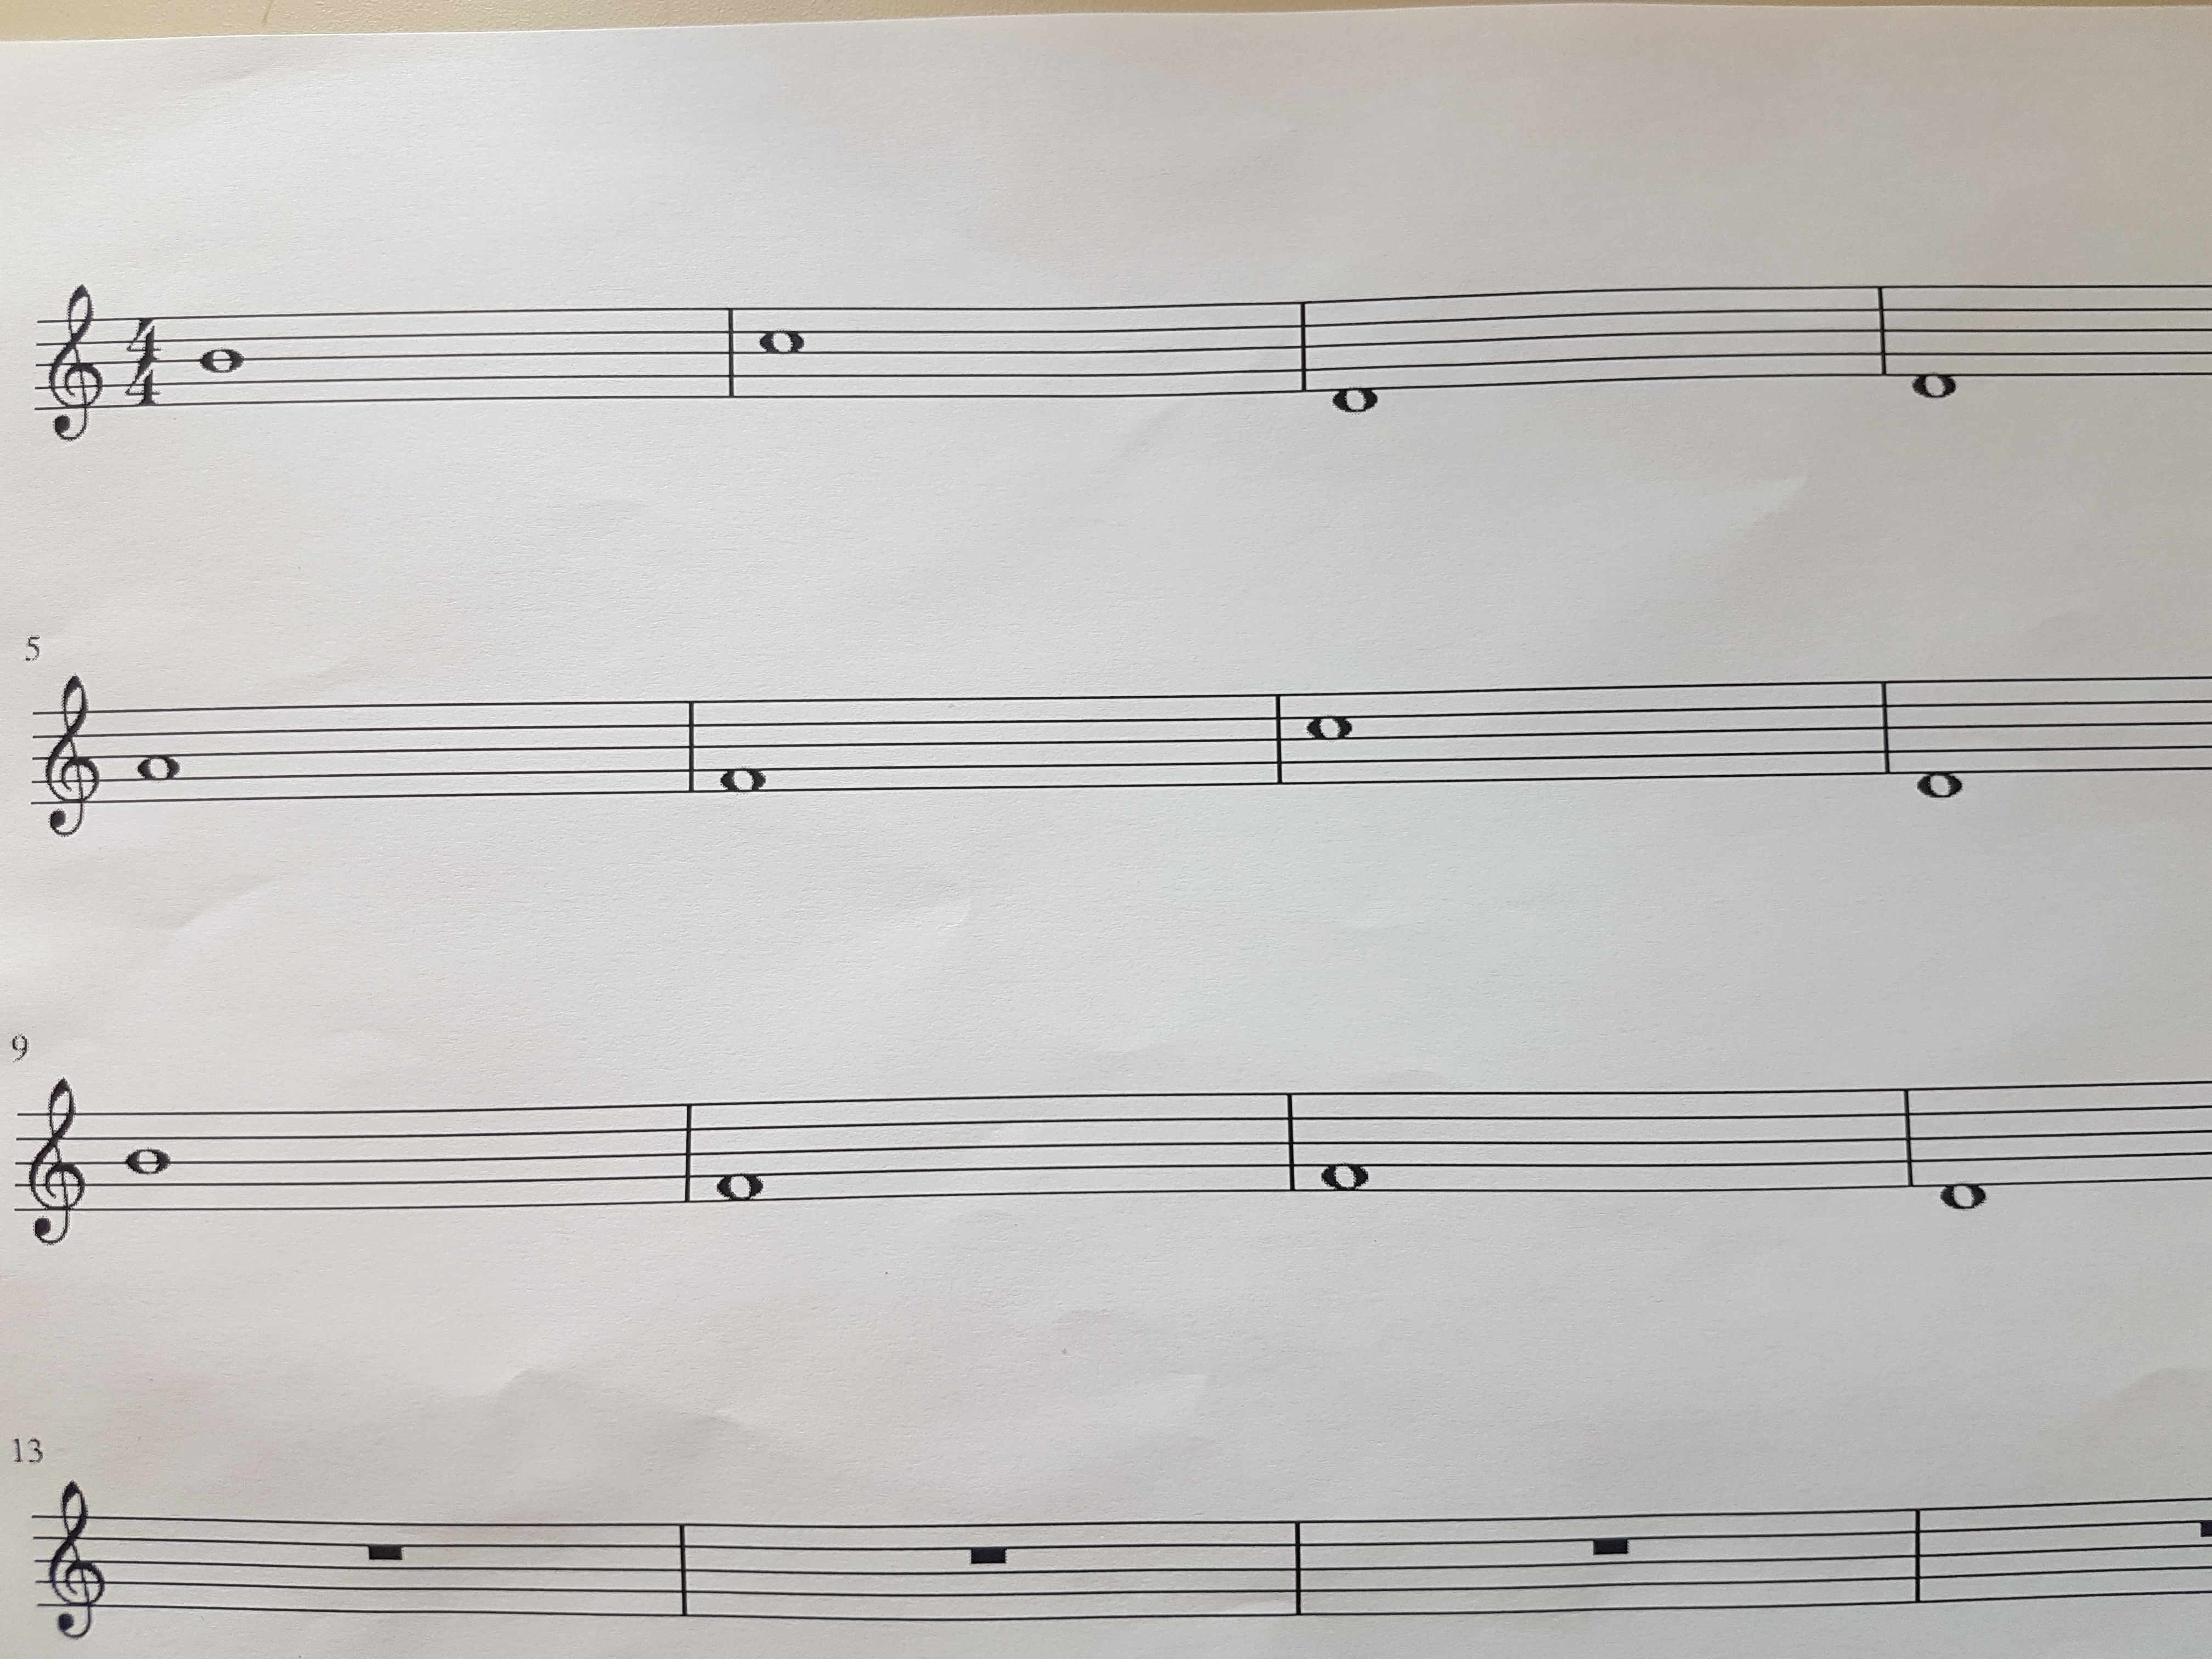key: (21, 1072, 91, 1258), (44, 272, 108, 453), (44, 1474, 108, 1654), (38, 666, 99, 850)
pipe: (1284, 1506, 1315, 1629), (1904, 1490, 1933, 1619), (669, 1506, 698, 1631), (1277, 1077, 1305, 1208), (1895, 1075, 1925, 1197), (1872, 671, 1902, 791), (676, 1091, 702, 1215), (1292, 288, 1320, 401), (1871, 272, 1897, 385), (1266, 678, 1291, 795), (679, 688, 704, 803), (719, 293, 742, 406)
semibreve_a: (127, 680, 186, 833)
semibreve_c: (1301, 655, 1359, 809), (752, 281, 810, 418)
semibreve_d: (1909, 648, 1968, 824), (1933, 1066, 1994, 1237), (1325, 272, 1386, 437), (1905, 258, 1959, 425)
semibreve_f: (1313, 1065, 1374, 1227), (712, 1080, 768, 1243), (714, 669, 772, 824)
semibreve_h: (117, 1086, 181, 1243), (192, 288, 251, 430)
